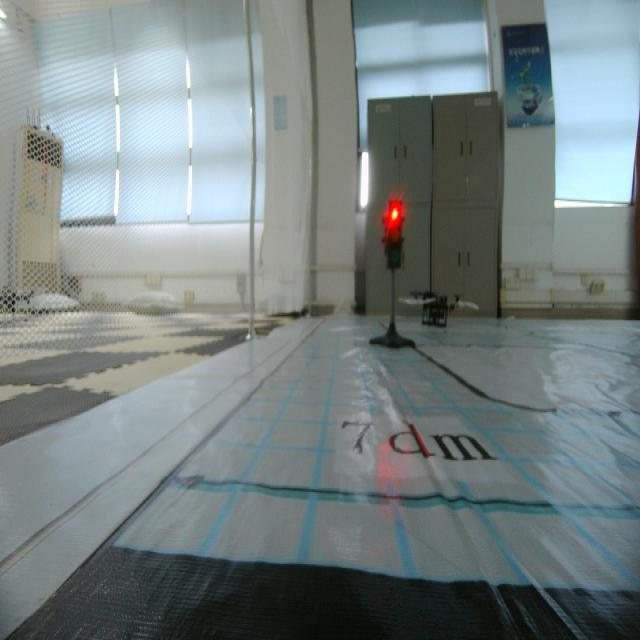red: (380, 193, 407, 280)
